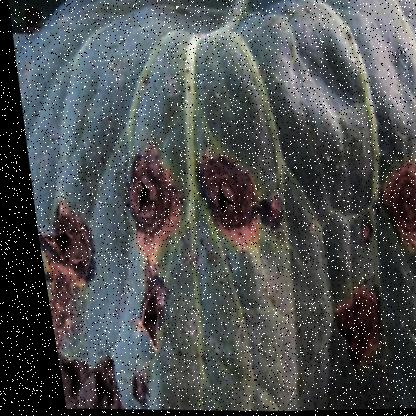Anthracnose: (108, 136, 182, 261), (310, 276, 390, 377), (192, 156, 271, 252), (357, 155, 415, 257)
